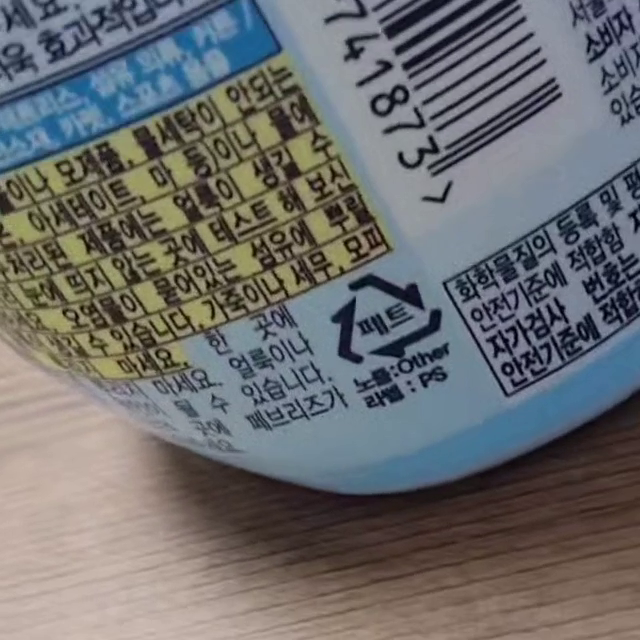Plastic: (331, 272, 444, 364)
